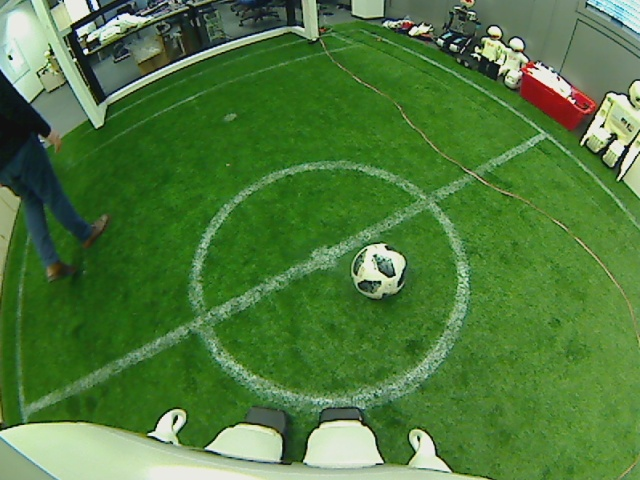ball: (349, 244, 407, 299)
